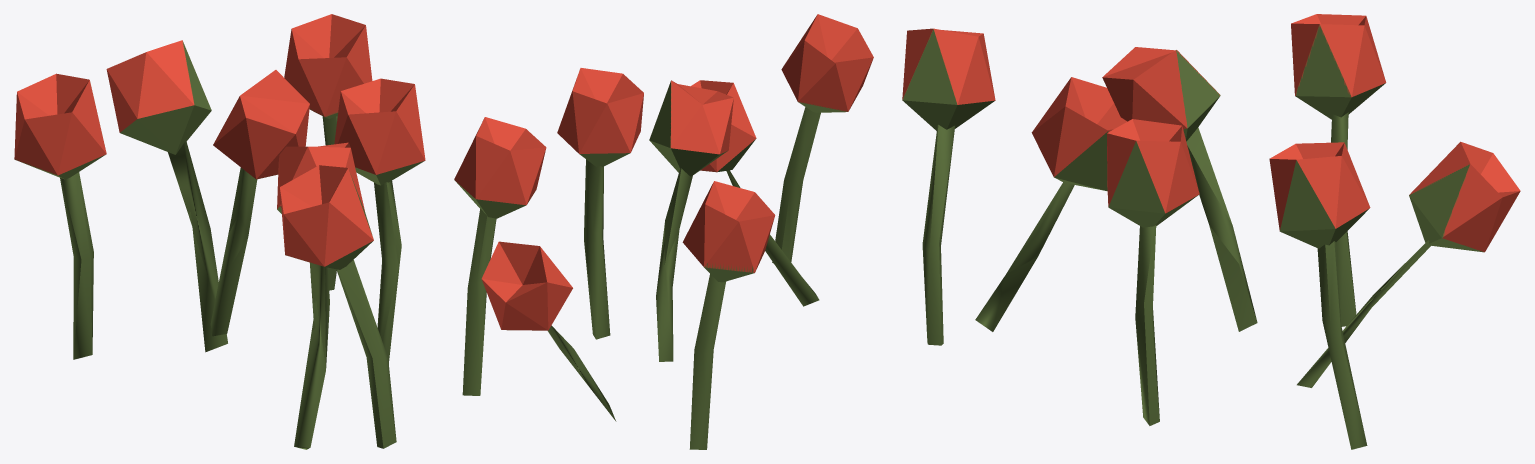
The model's file is low poly roses flower.fbx.
The picture shows the model from 3 angles, left to right: view 1: azimuth 30°, elevation 25°; view 2: azimuth 150°, elevation 25°; view 3: azimuth 270°, elevation 25°; orthographic projection. The views are drawn at different scales.
Visible parts, largest first — view 1: Cylinder.020; view 2: Cylinder.020; view 3: Cylinder.020.
Boxes of the visible parts, box(x1,y1,x2,y2) form: Cylinder.020: box(14, 14, 425, 449); Cylinder.020: box(454, 14, 873, 449); Cylinder.020: box(902, 14, 1520, 449).
Bounding box in the file's own units: 85.33 × 77.54 × 127.
1 material, 1 textured.
